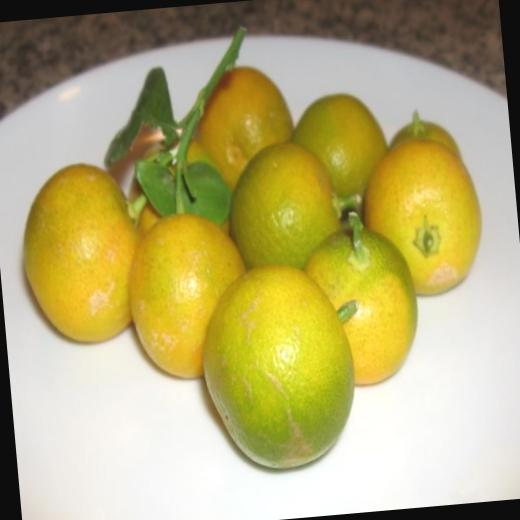Grape: (9, 46, 500, 490)
